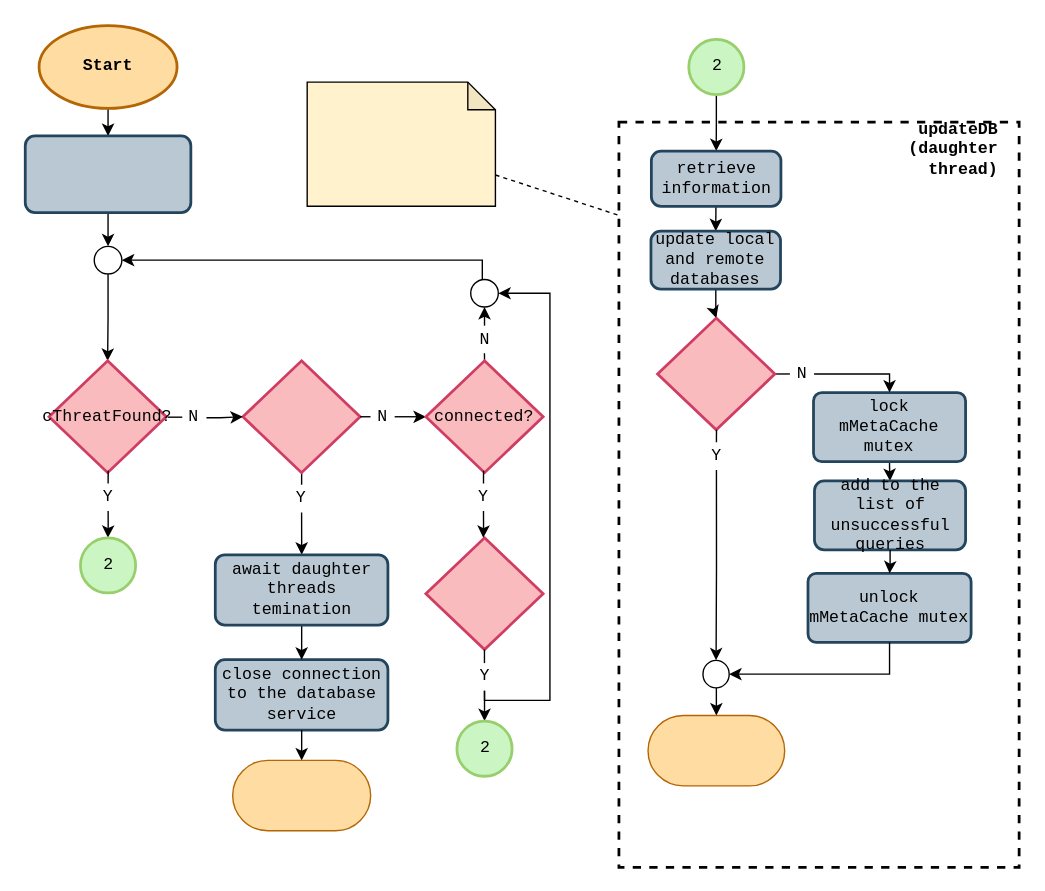
The diagram is 1045 pixels wide and 891 high, and some of its shapes have lost their labels. The box of each missing label's shape, as (x1, y1, x2, y2) in pixels:
attempt to connect to the database service: (23, 134, 192, 213)
cTerminate?: (241, 359, 361, 473)
Exit: (231, 759, 371, 831)
information still left to upload?: (424, 536, 544, 650)
Multiple daughter threads can be running at the same time.: (306, 81, 495, 206)
success in remote update?: (656, 316, 776, 431)
updateDB: Exit: (647, 714, 785, 786)
